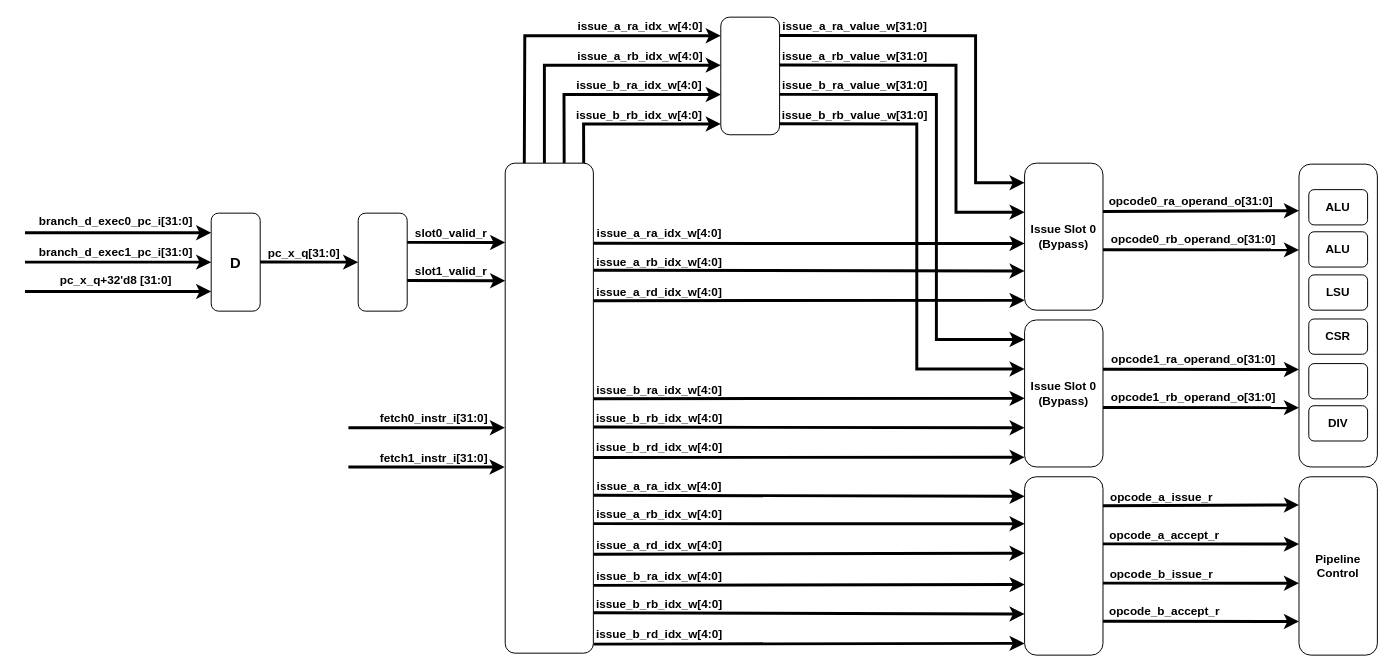
Image size: 1395x672. Some labels were removed from this diagram. Here are the shapes that lost their labels. From the top down, the centre of each, then its label:
At (750,75): "Regfile".
At (382,261): "Issue Select".
At (1338,381): "MUL".
At (548,407): "Instruction Decoder".
At (1063,565): "ScoreBoard".
